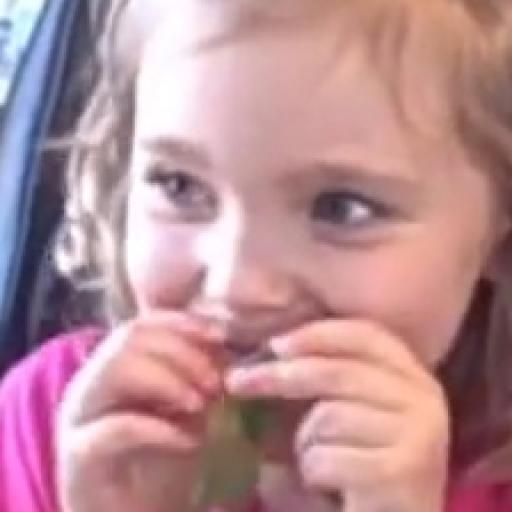Autism: (80, 4, 512, 471)
